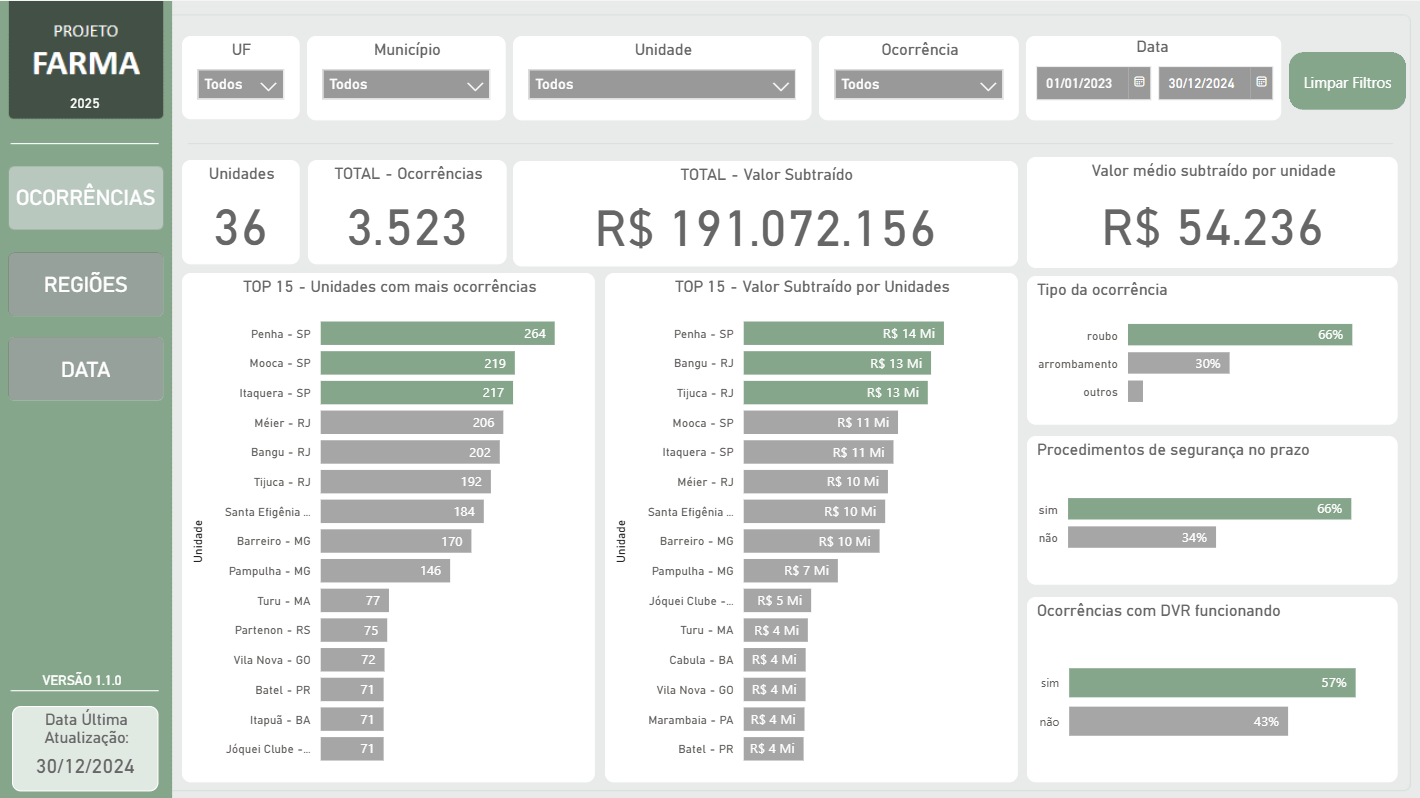

This screenshot's page, from the dashboard's own definition file:
{"tool":"powerbi","page":{"name":"Visualização por Ocorrências","canvas":[1280,720],"ordinal":0},"visuals":[{"type":"card","title":"TOTAL - Ocorrências","fields":{"Values":["1medidas.totalOcorrencias"]},"box":[277.2,143.3,178.9,94.4],"z":0},{"type":"card","title":"TOTAL - Valor Subtraído","fields":{"Values":["1medidas.valorSubtraido"]},"box":[462.5,143.8,455,95],"z":1000},{"type":"slicer","title":"Data","fields":{"Values":["ocorrencias_farmacias csv.data"]},"box":[925,31.5,230,75.6],"z":2000},{"type":"slicer","title":"Unidade","fields":{"Values":["ocorrencias_farmacias csv.unidade"]},"box":[462.7,31.5,269,75.6],"z":3000},{"type":"slicer","title":"Ocorrência","fields":{"Values":["ocorrencias_farmacias csv.ocorrencia"]},"box":[738.4,31.5,180,75.6],"z":4000},{"type":"slicer","title":"UF","fields":{"Values":["ocorrencias_farmacias csv.UF"]},"box":[164,31.9,105.5,75.4],"z":5000},{"type":"slicer","title":"Município","fields":{"Values":["ocorrencias_farmacias csv.cidade"]},"box":[277.1,31.5,179,75.6],"z":6000},{"type":"textbox","box":[1170.4,156.1,88.7,46.1],"z":7000},{"type":"card","title":"Unidades","fields":{"Values":["Count(ocorrencias_farmacias csv.unidade)"]},"box":[164.4,143.3,105.6,94.4],"z":8000},{"type":"barChart","title":"TOP 15 - Unidades com mais ocorrências","fields":{"Category":["ocorrencias_farmacias csv.nomeAbrev"],"Y":["1medidas.totalOcorrencias"]},"box":[164,244.7,372.4,459.3],"z":9000},{"type":"barChart","title":"TOP 15 - Valor Subtraído por Unidades","fields":{"Y":["1medidas.valorSubtraido"],"Category":["ocorrencias_farmacias csv.nomeAbrev"]},"box":[545.3,244.7,371.5,459.3],"z":10000},{"type":"barChart","title":"Ocorrências com DVR funcionando","fields":{"Category":["ocorrencias_farmacias csv.dvr"],"Y":["Divide(1medidas.totalOcorrencias, ScopedEval(1medidas.totalOcorrencias, []))"]},"box":[925,537.1,334.4,166.7],"z":11000},{"type":"barChart","title":"Procedimentos de segurança no prazo","fields":{"Category":["ocorrencias_farmacias csv.procedimentos_segurança_no_prazo"],"Y":["Divide(1medidas.totalOcorrencias, ScopedEval(1medidas.totalOcorrencias, []))"]},"box":[925,392,334.4,133.8],"z":12000},{"type":"card","title":"Data Última Atualização:","fields":{"Values":["Max(ocorrencias_farmacias csv.data)"]},"box":[10.6,634.9,132.1,77.1],"z":13000},{"type":"shape","box":[7.3,302.7,140,57.3],"z":14000},{"type":"textbox","box":[7.2,144.1,139.9,58.6],"z":15000},{"type":"shape","box":[7.3,226.4,140,58.2],"z":16000},{"type":"textbox","box":[0,597.5,147.5,30],"z":17000},{"type":"textbox","box":[2.5,77.5,147.5,30],"z":18000},{"type":"barChart","title":"Tipo da ocorrência","fields":{"Y":["CountNonNull(ocorrencias_farmacias csv.ocorrencia)"],"Category":["ocorrencias_farmacias csv.ocorrencia"]},"box":[925,248,334.4,133.8],"z":19000},{"type":"card","title":"Valor médio subtraído por unidade","fields":{"Values":["1medidas.valorMedioSubtraidoPorUnidade"]},"box":[925,141,334.4,99.8],"z":20000},{"type":"shape","box":[1161.6,46.1,105.5,52.3],"z":21000}]}

Visuals, with their boxes in screenshot pixels (x1, y1, x2, y2), scaled from the page's 1280x720 canvas onto the 1420x798 screenshot:
"TOTAL - Ocorrências" card: <region>308, 159, 506, 263</region>
"TOTAL - Valor Subtraído" card: <region>513, 159, 1018, 265</region>
"Data" slicer: <region>1026, 35, 1281, 119</region>
"Unidade" slicer: <region>513, 35, 812, 119</region>
"Ocorrência" slicer: <region>819, 35, 1019, 119</region>
"UF" slicer: <region>182, 35, 299, 119</region>
"Município" slicer: <region>307, 35, 506, 119</region>
textbox: <region>1298, 173, 1397, 224</region>
"Unidades" card: <region>182, 159, 300, 263</region>
"TOP 15 - Unidades com mais ocorrências" barChart: <region>182, 271, 595, 780</region>
"TOP 15 - Valor Subtraído por Unidades" barChart: <region>605, 271, 1017, 780</region>
"Ocorrências com DVR funcionando" barChart: <region>1026, 595, 1397, 780</region>
"Procedimentos de segurança no prazo" barChart: <region>1026, 434, 1397, 583</region>
"Data Última Atualização:" card: <region>12, 704, 158, 789</region>
shape: <region>8, 335, 163, 399</region>
textbox: <region>8, 160, 163, 225</region>
shape: <region>8, 251, 163, 315</region>
textbox: <region>0, 662, 164, 695</region>
textbox: <region>3, 86, 166, 119</region>
"Tipo da ocorrência" barChart: <region>1026, 275, 1397, 423</region>
"Valor médio subtraído por unidade" card: <region>1026, 156, 1397, 267</region>
shape: <region>1289, 51, 1406, 109</region>
